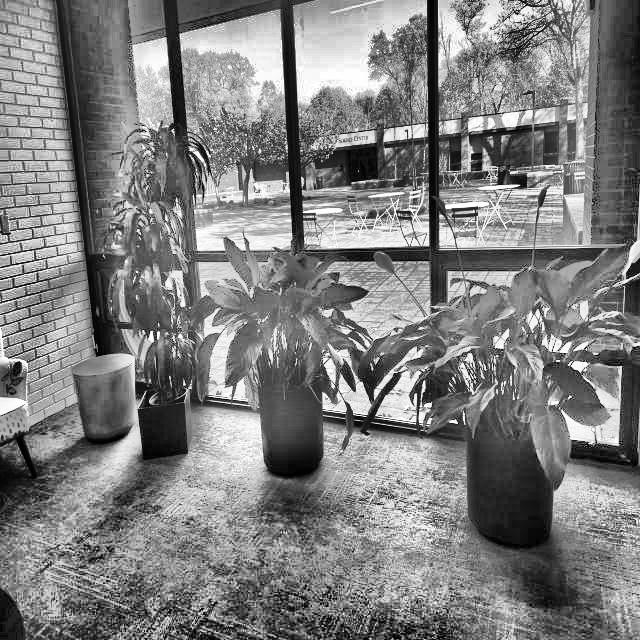plants: (407, 256, 628, 449), (107, 130, 220, 398), (232, 226, 366, 396)
